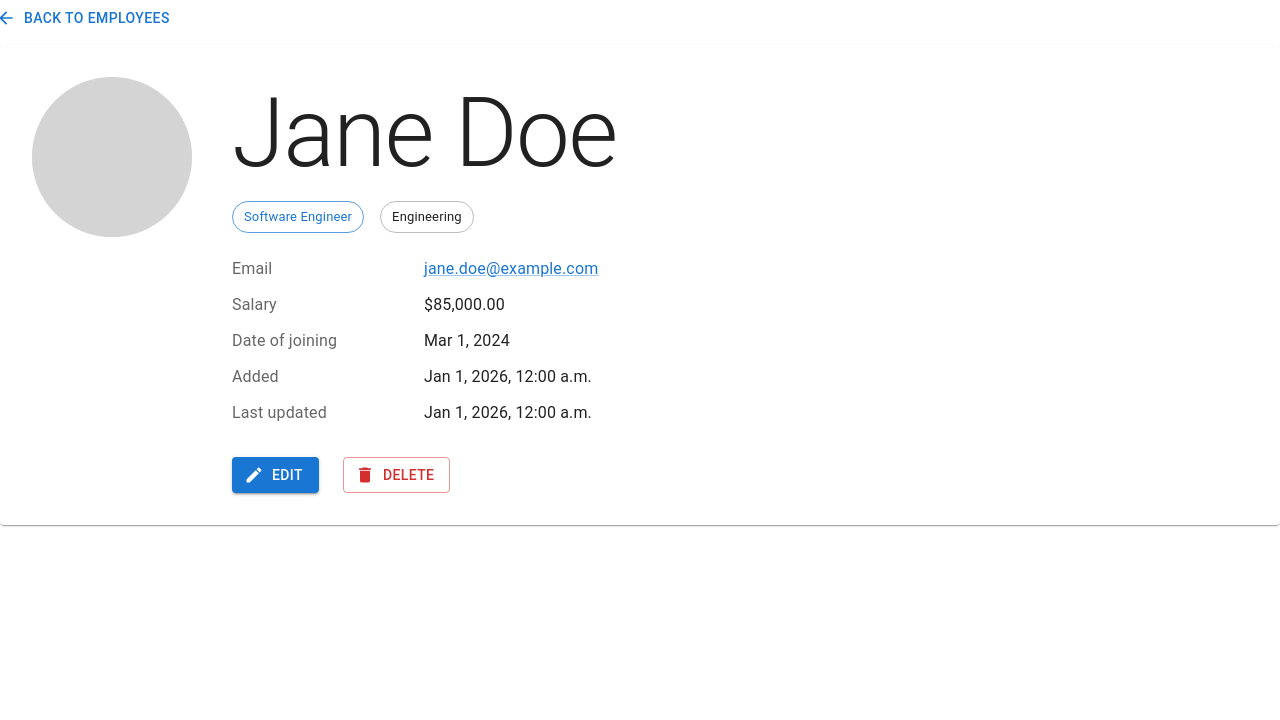
EmployeeDetailsPage: deleting › asks first, and deletes nothing when cancelled
Click the button "Delete": (397, 475) [343,456,450,493]
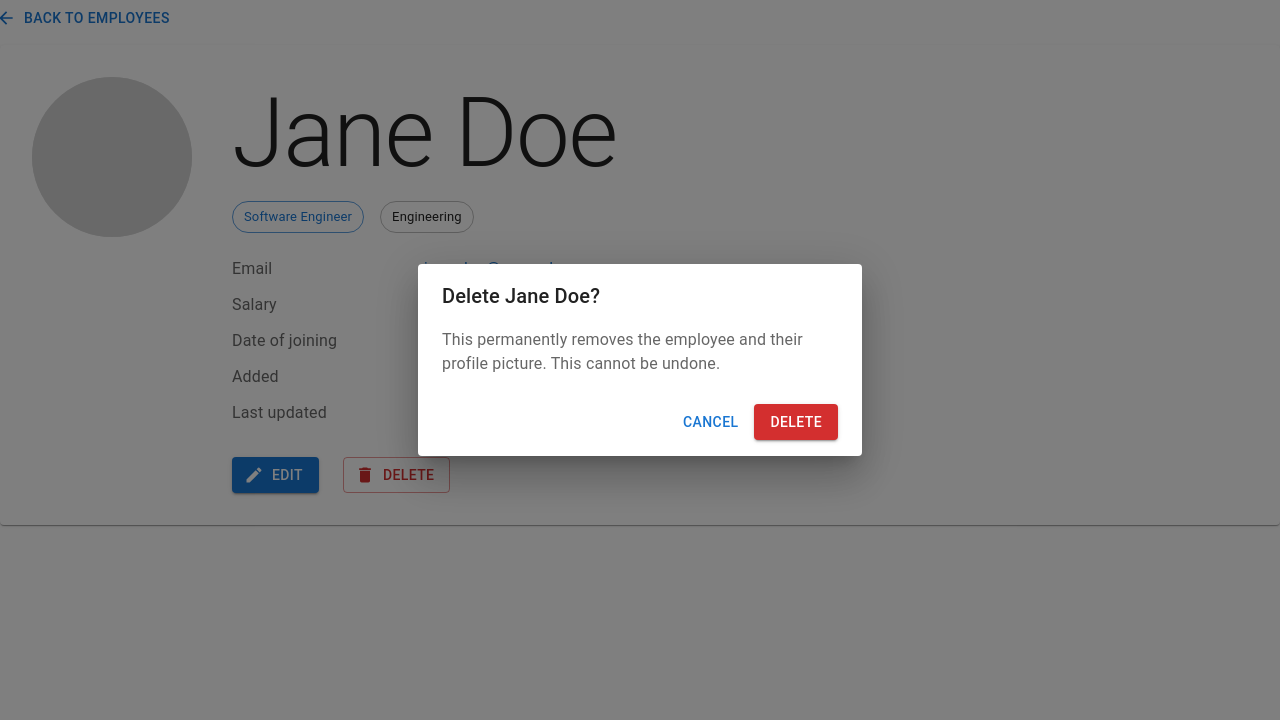
Result: the dialog "Delete Jane Doe?" is shown at [418,264,862,456]
Click the button "Cancel": (711, 422) [675,404,746,440]
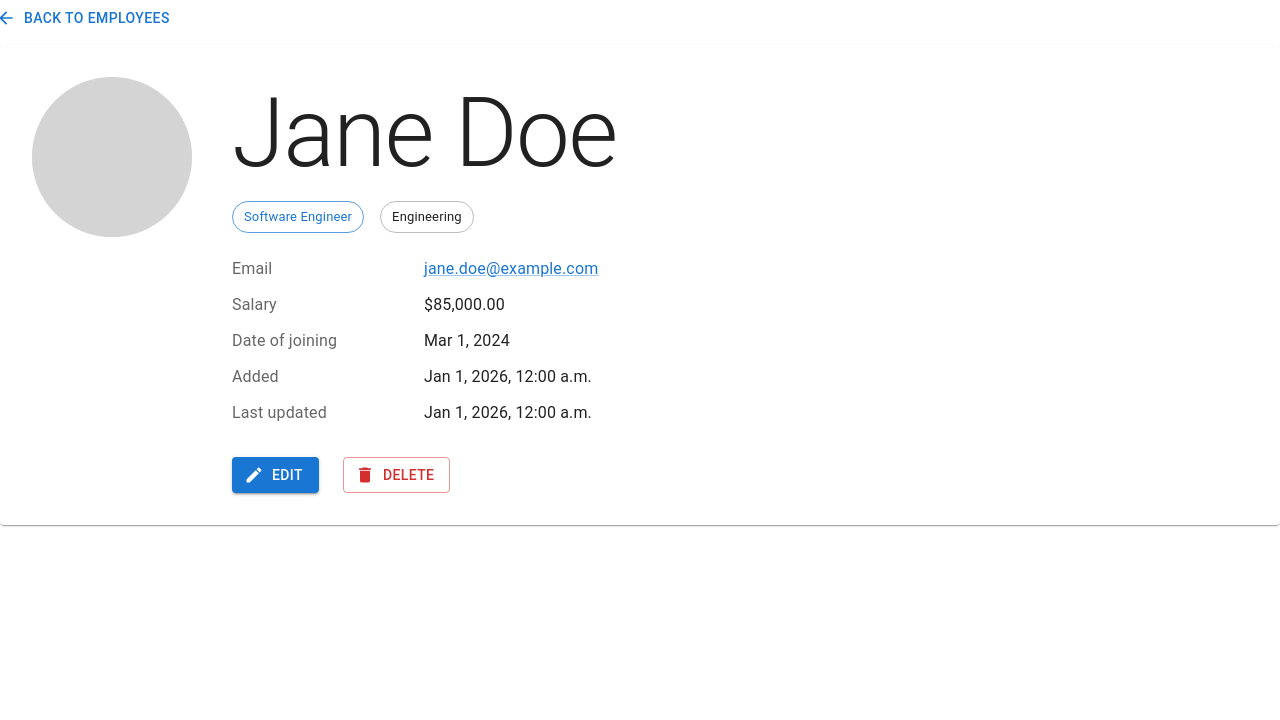
Expected: the heading "Jane Doe" is shown, [232,76,616,188]
Result: the dialog is gone
